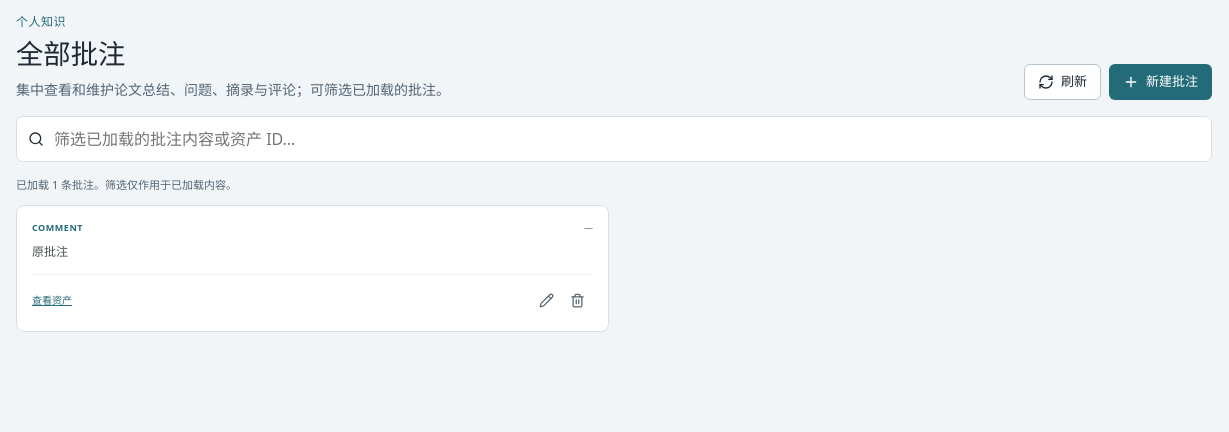
Test: AnnotationsPage › refreshes changed versions before the user confirms deletion again
Expected: the text "原批注" is shown, [32, 243, 68, 260]
Click the 2nd button named "删除批注". click: click(578, 301)
box: [562, 285, 593, 316]
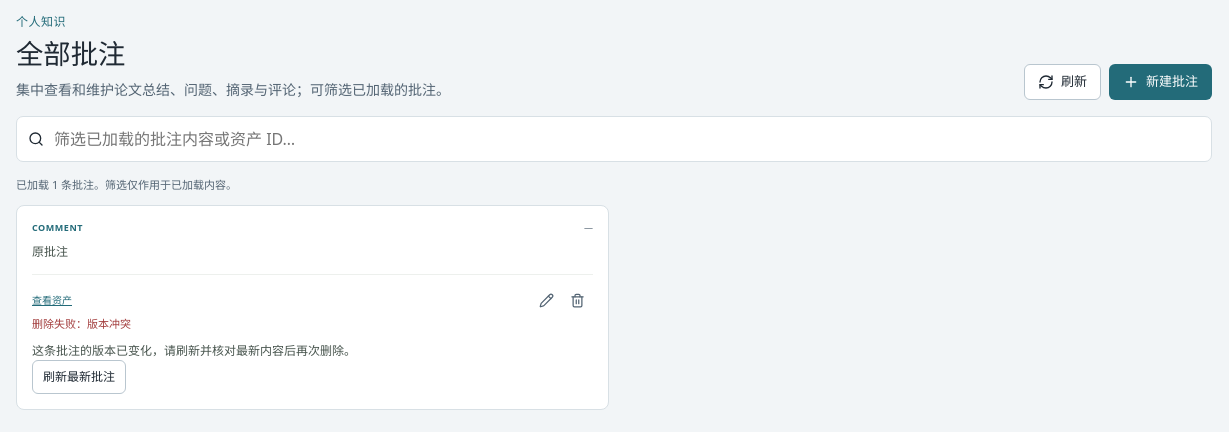
Result: the text "删除失败：版本冲突 这条批注的版本已变化，请刷新并核对最新内容后再次删除。 刷新最新批注" is shown at [32, 316, 356, 394]
Click the button "刷新最新批注". click: click(79, 377)
box: [32, 360, 126, 394]
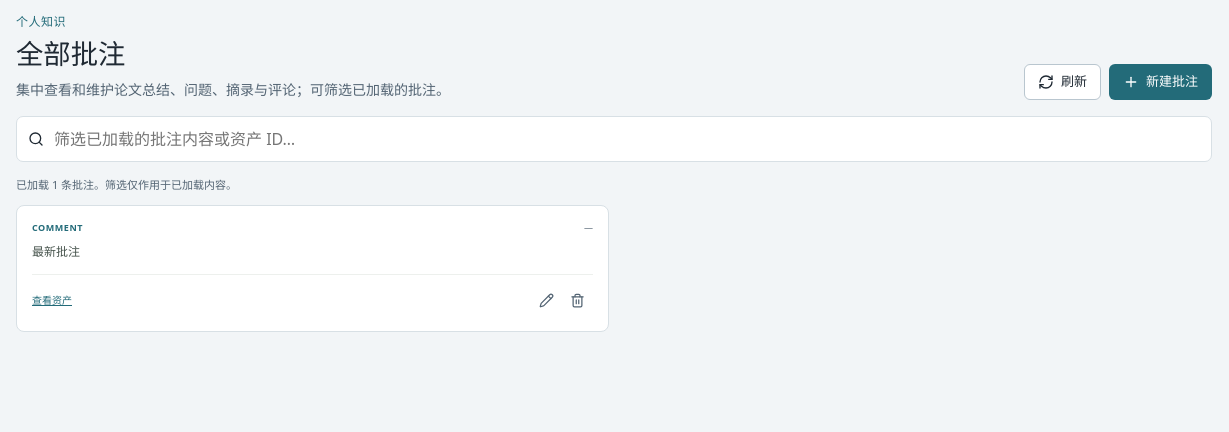
Result: the text "最新批注" is shown at [32, 243, 80, 260]
Result: the text "删除失败" is gone
Click the 2nd button named "删除批注". click: click(578, 301)
box: [562, 285, 593, 316]
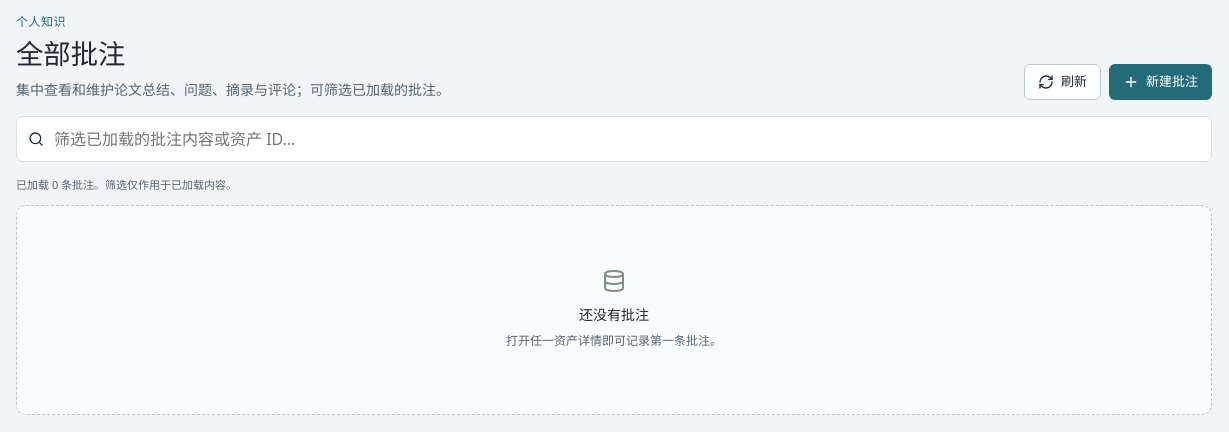
Result: the text "还没有批注" is shown at [579, 304, 649, 325]
